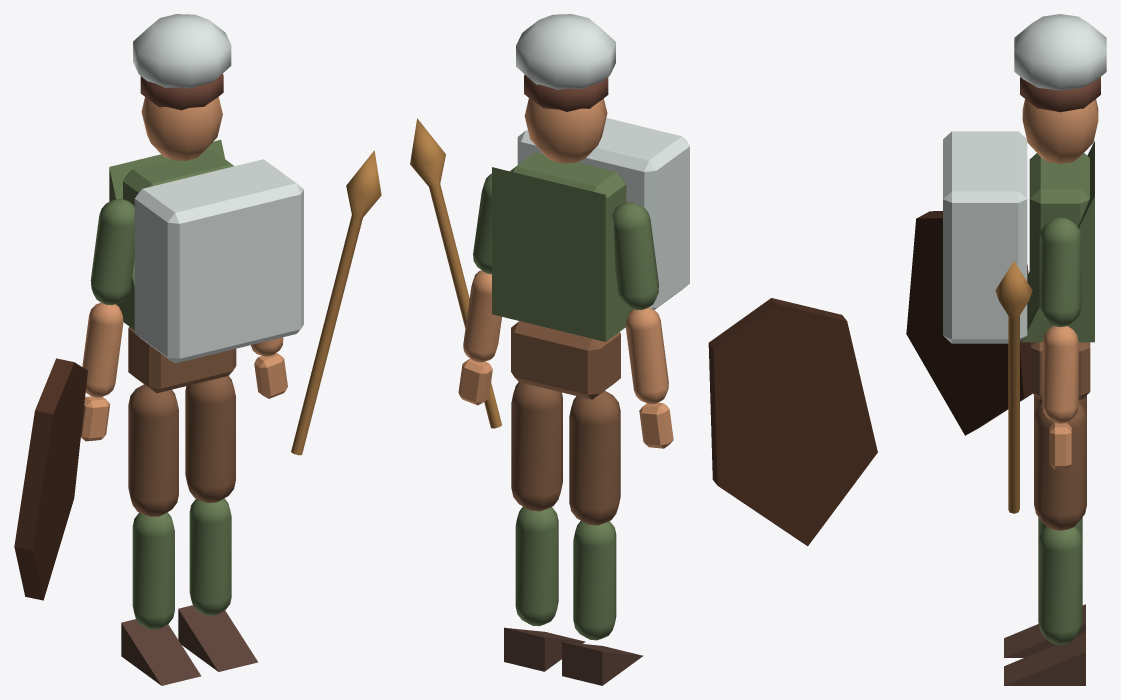
The model's file is adventurer.rustic.glb.
The picture shows the model from 3 angles, left to right: view 1: azimuth 30°, elevation 25°; view 2: azimuth 150°, elevation 25°; view 3: azimuth 270°, elevation 25°; orthographic projection.
Parts seen in each view (by area): view 1: accessory.body, accessory.off-hand, thigh.left, thigh.right, accessory.head, shin.left, shin.right, accessory.main-hand, upper-arm.left, head, pelvis, foot.left (+7 smaller); view 2: accessory.off-hand, tunic, accessory.body, pelvis, thigh.left, thigh.right, accessory.head, shin.right, shin.left, upper-arm.left, head, accessory.main-hand (+9 smaller); view 3: accessory.body, accessory.off-hand, accessory.head, shin.right, thigh.right, torso, upper-arm.right, accessory.main-hand, head, forearm.right, tunic, foot.right (+4 smaller).
Boxes of the visible parts, x1,y1,x2,y2 form: accessory.body: (134, 159, 303, 363); accessory.off-hand: (14, 358, 87, 600); thigh.left: (128, 384, 178, 516); thigh.right: (185, 376, 235, 502); accessory.head: (133, 14, 231, 88); shin.left: (132, 512, 174, 629); shin.right: (189, 498, 231, 615); accessory.main-hand: (291, 150, 381, 455); upper-arm.left: (90, 199, 134, 305); head: (141, 97, 222, 160); pelvis: (128, 326, 236, 393); foot.left: (121, 619, 201, 685); accessory.off-hand: (708, 298, 877, 546); tunic: (492, 167, 633, 341); accessory.body: (517, 118, 689, 309); pelvis: (511, 321, 620, 399); thigh.left: (569, 390, 620, 525); thigh.right: (511, 382, 562, 511); accessory.head: (516, 14, 615, 89); shin.right: (515, 506, 558, 626); shin.left: (573, 521, 616, 640); upper-arm.left: (612, 202, 658, 310); head: (524, 98, 607, 163); accessory.main-hand: (410, 118, 501, 428); accessory.body: (943, 131, 1027, 343); accessory.off-hand: (906, 211, 1032, 435); accessory.head: (1014, 14, 1106, 90); shin.right: (1038, 526, 1082, 644); thigh.right: (1034, 403, 1086, 530); torso: (1029, 153, 1089, 316); upper-arm.right: (1039, 217, 1081, 326); accessory.main-hand: (995, 261, 1032, 513); head: (1022, 99, 1098, 163); forearm.right: (1042, 326, 1078, 423); tunic: (1021, 141, 1094, 342); foot.right: (1004, 632, 1085, 685).
Size of the model in its own units: 2.17 by 3.2 by 0.9041.
